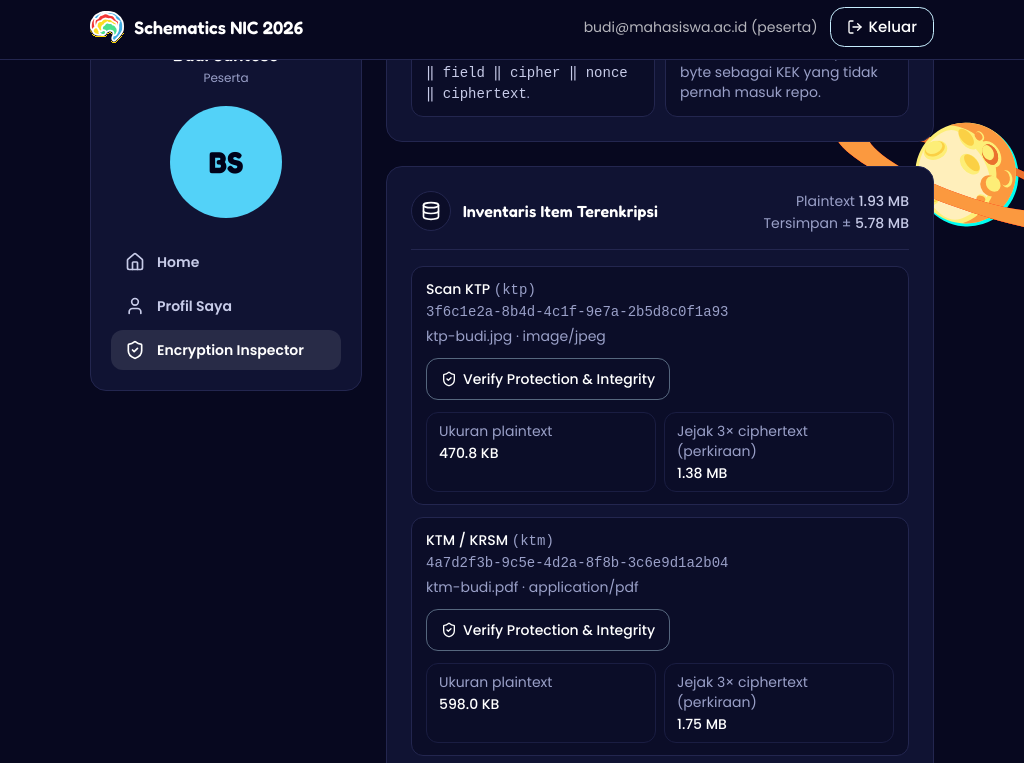
it: Encryption & Integrity Inspector › verifies an item by downloading it in full and reporting a client-side SHA-256 checksum
(page scrolled)
Click the button with test id "verify-btn-ktp" at (548, 379), box [426,358,670,400]
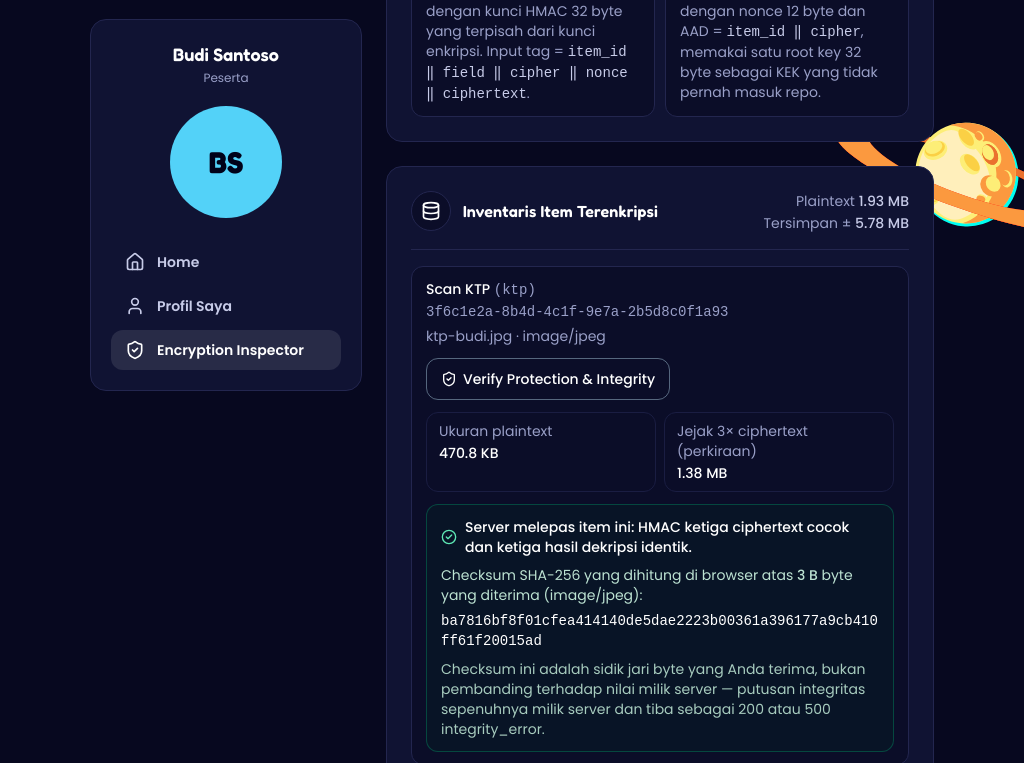
Expected: the element with test id "verify-result-ktp" shows "ba7816bf8f01cfea414140de5dae2223b00361a396177a9cb410ff61f20015ad", [441,613,878,649]
Expected: the element with test id "verify-result-ktp" shows "3 B", [797,565,818,585]
